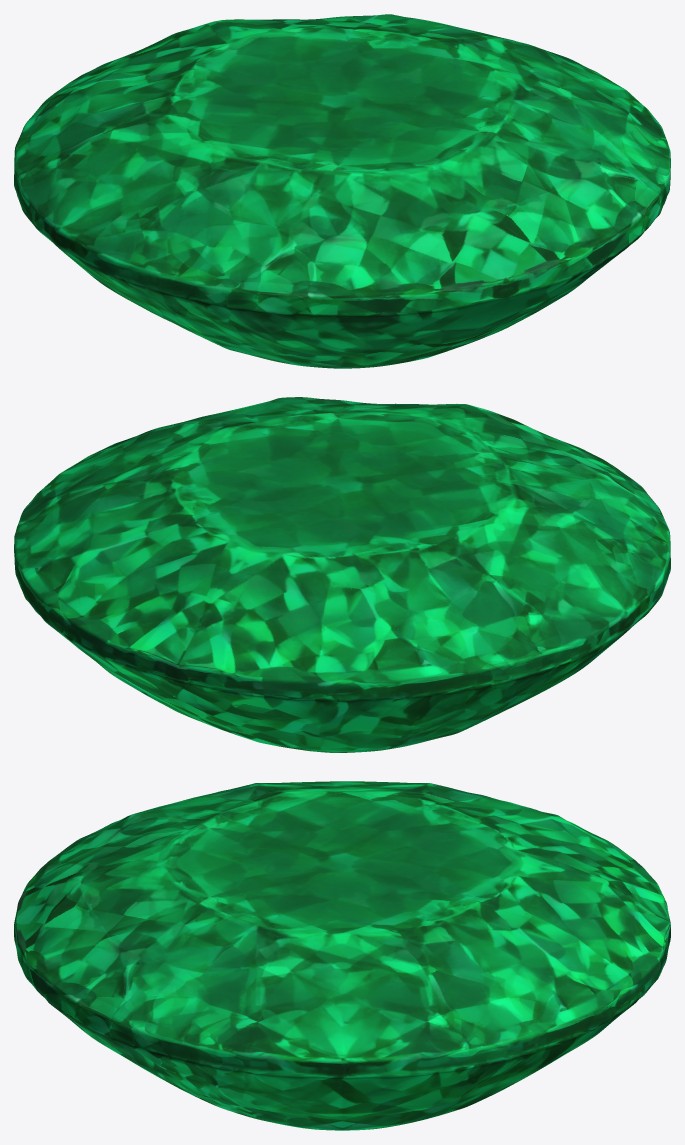
File: Esmeralda_leve.glb
3 renders of one model, top to bottom at view 1: azimuth 30°, elevation 25°; view 2: azimuth 150°, elevation 25°; view 3: azimuth 270°, elevation 25°, orthographic.
Bounding box in the file's own units: 1.9 × 0.8055 × 1.9.
1 material, 1 textured.
